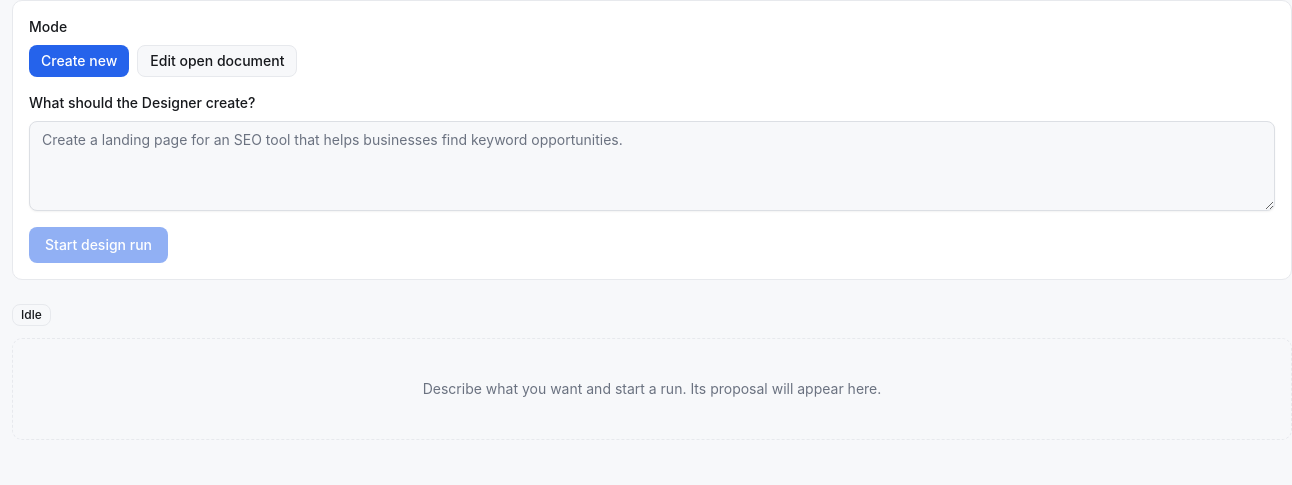
Test case: Designer › reports when the server collapsed the submission onto an existing run
This screenshot has width=1292, height=485.
Step 1. Replace the text in the text box labelled "What should the Designer create?" with "Create a pricing page" → (652,166), box [29,121,1275,211]
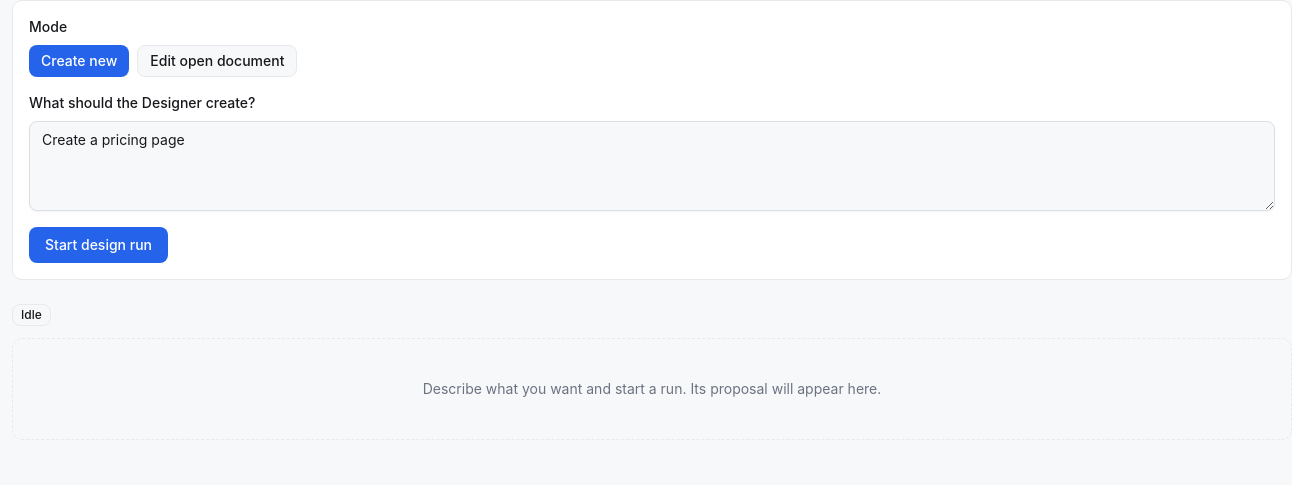
Step 2. Click the button "Start design run" → (98,245), box [29,227,168,263]
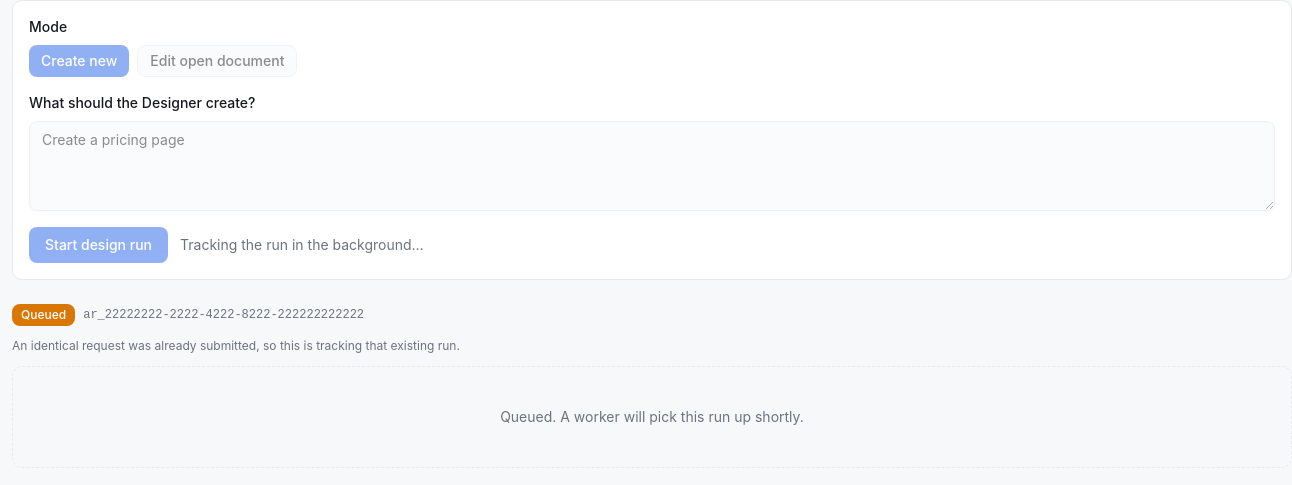
Expected: the text "already submitted" is shown, [12,338,460,353]
